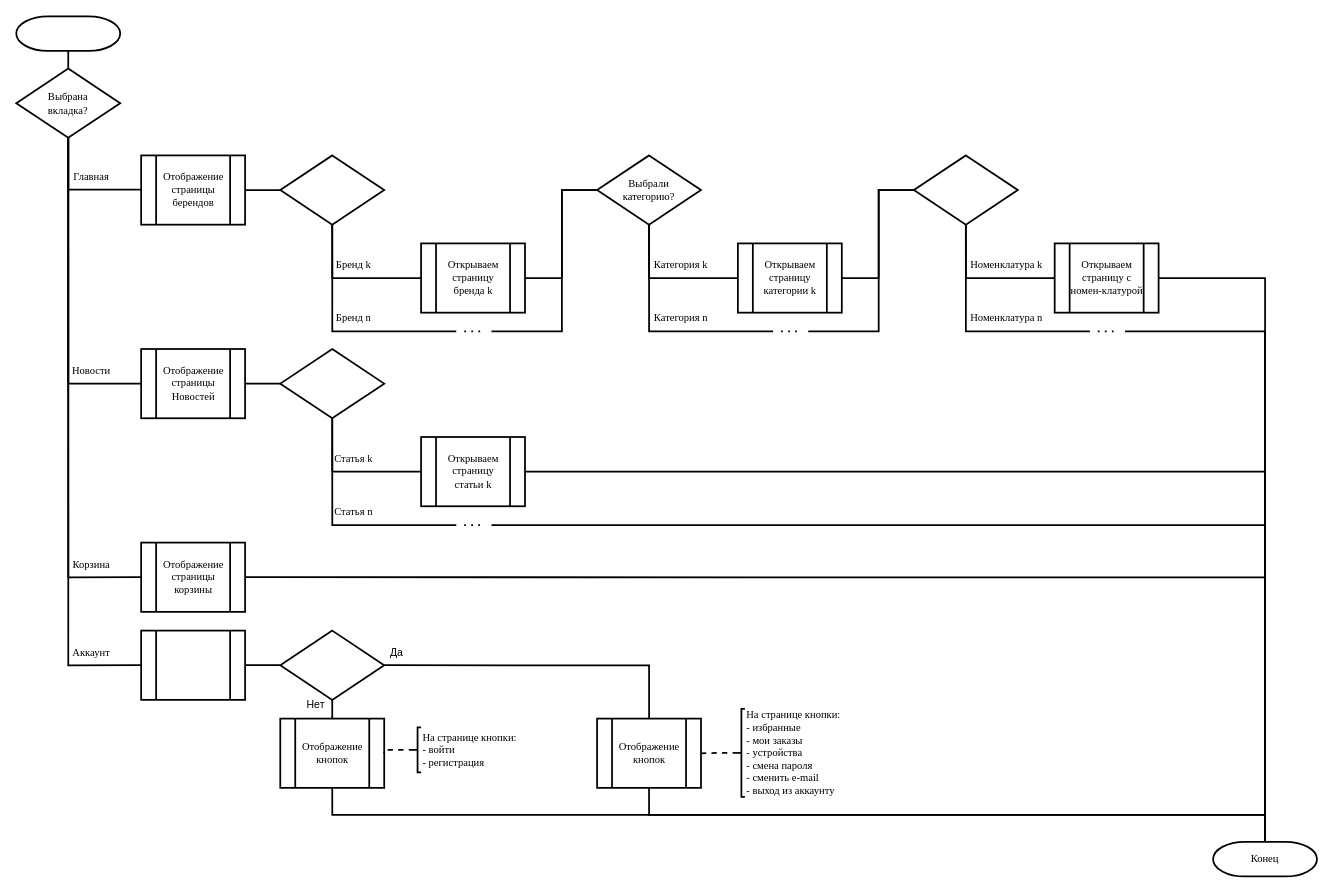
The diagram is 1333 pixels wide and 892 high, and some of its shapes have lost their labels. The centre of each missing label's shape, as x and y in pixels:
"Авторизован?" goes at point (332, 664).
"Выбрали бренд?" goes at point (332, 189).
"Выбрали номен- клатуру?" goes at point (965, 189).
"Выбрана статья?" goes at point (332, 383).
"Начало" goes at point (68, 33).
"Отображение страницы аккаунта" goes at point (193, 664).
